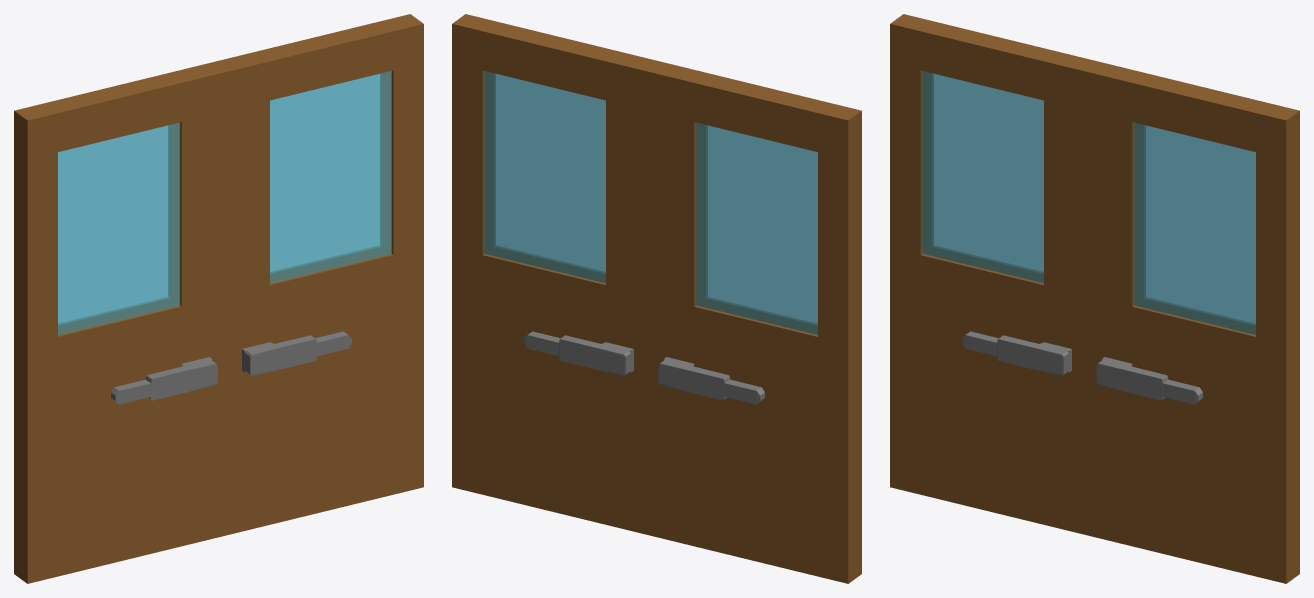
Rendered from buro_door.glb.
3 views of the same model, side by side, from view 1: azimuth 30°, elevation 25°; view 2: azimuth 150°, elevation 25°; view 3: azimuth 330°, elevation 25° (orthographic).
Visible parts, largest first — view 1: Cube.001; view 2: Cube.001; view 3: Cube.001.
Part boxes in pixels (x1,y1,x2,y2): Cube.001: (14, 14, 423, 583); Cube.001: (452, 14, 861, 583); Cube.001: (890, 14, 1299, 583).
Bounding box in the file's own units: 3.4 × 3.8 × 0.4468.
